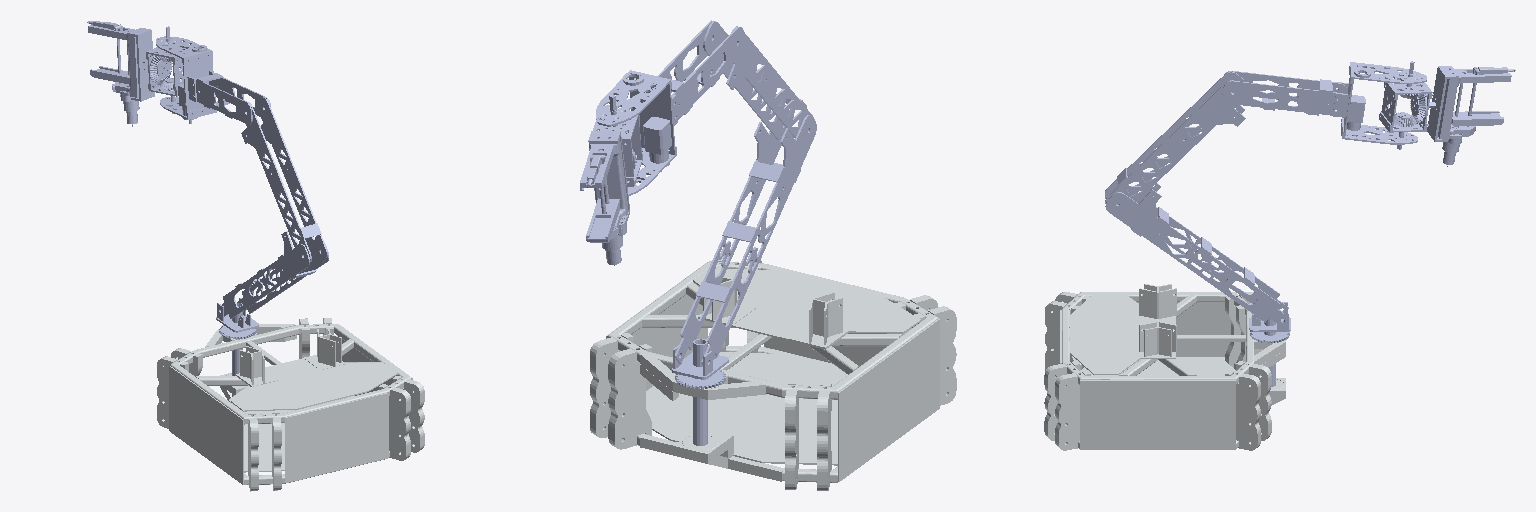
robot.urdf — N1:
<?xml version="1.0" encoding="utf-8"?>
<!-- This URDF was automatically created by SolidWorks to URDF Exporter! Originally created by Stephen Brawner (brawner@gmail.com) 
     Commit Version: 1.6.0-4-g7f85cfe  Build Version: 1.6.7995.38578
     For more information, please see http://wiki.ros.org/sw_urdf_exporter -->
<robot
  name="N1">
  <link
    name="base_link">
    <inertial>
      <origin
        xyz="0.44374130333229 0.00131744799682302 -0.0944335156494426"
        rpy="0 0 0" />
      <mass
        value="12.7671132805366" />
      <inertia
        ixx="0.0762177525654476"
        ixy="0.00525893980315938"
        ixz="0.00110830312185526"
        iyy="0.103599955301642"
        iyz="-0.000480576660787368"
        izz="0.0762422541174022" />
    </inertial>
    <visual>
      <origin
        xyz="0 0 0"
        rpy="0 0 0" />
      <geometry>
        <mesh
          filename="../meshes/base_link.STL" />
      </geometry>
      <material
        name="">
        <color
          rgba="0.898039215686275 0.917647058823529 0.929411764705882 1" />
      </material>
    </visual>
    <collision>
      <origin
        xyz="0 0 0"
        rpy="0 0 0" />
      <geometry>
        <mesh
          filename="../meshes/base_link.STL" />
      </geometry>
    </collision>
  </link>
  <link
    name="tt">
    <inertial>
      <origin
        xyz="0.0377719516274181 0.108170636515129 0.111025101523061"
        rpy="0 0 0" />
      <mass
        value="0.129929642618295" />
      <inertia
        ixx="0.000320270646686014"
        ixy="1.35269734113357E-08"
        ixz="-9.00264351077026E-08"
        iyy="0.00010911086169255"
        iyz="2.6086367259062E-06"
        izz="0.000302909782358854" />
    </inertial>
    <visual>
      <origin
        xyz="0 0 0"
        rpy="0 0 0" />
      <geometry>
        <mesh
          filename="../meshes/tt.STL" />
      </geometry>
      <material
        name="">
        <color
          rgba="0.792156862745098 0.819607843137255 0.933333333333333 1" />
      </material>
    </visual>
    <collision>
      <origin
        xyz="0 0 0"
        rpy="0 0 0" />
      <geometry>
        <mesh
          filename="../meshes/tt.STL" />
      </geometry>
    </collision>
  </link>
  <joint
    name="tt"
    type="revolute">
    <origin
      xyz="0.40275 0.46108 -0.020796"
      rpy="1.5708 0 0.020119" />
    <parent
      link="base_link" />
    <child
      link="tt" />
    <axis
      xyz="0 1 0" />
    <limit
      lower="-3.14"
      upper="3.14"
      effort="0"
      velocity="0" />
  </joint>
  <link
    name="link1">
    <inertial>
      <origin
        xyz="-0.310431970879497 -3.07589302529618 1.78575704902329"
        rpy="0 0 0" />
      <mass
        value="0.229444432647079" />
      <inertia
        ixx="0.000309638419618707"
        ixy="0.000834918622048221"
        ixz="-0.000527710947181506"
        iyy="0.00502028720553222"
        iyz="5.52520703820358E-05"
        izz="0.00504780093377593" />
    </inertial>
    <visual>
      <origin
        xyz="0 0 0"
        rpy="0 0 0" />
      <geometry>
        <mesh
          filename="../meshes/link1.STL" />
      </geometry>
      <material
        name="">
        <color
          rgba="0.792156862745098 0.819607843137255 0.933333333333333 1" />
      </material>
    </visual>
    <collision>
      <origin
        xyz="0 0 0"
        rpy="0 0 0" />
      <geometry>
        <mesh
          filename="../meshes/link1.STL" />
      </geometry>
    </collision>
  </link>
  <joint
    name="link1"
    type="revolute">
    <origin
      xyz="-3.4934 0.37744 0.82892"
      rpy="-2.9337 0.8328 -1.8744" />
    <parent
      link="tt" />
    <child
      link="link1" />
    <axis
      xyz="0 1 0" />
    <limit
      lower="-3.14"
      upper="3.14"
      effort="0"
      velocity="0" />
  </joint>
  <link
    name="link2">
    <inertial>
      <origin
        xyz="-0.625902574725166 -2.95029775475842 1.90384210647486"
        rpy="0 0 0" />
      <mass
        value="0.209369199831917" />
      <inertia
        ixx="0.00255840299551021"
        ixy="0.00083404571482698"
        ixz="0.00128678517080147"
        iyy="0.00286782241247256"
        iyz="-0.00114617443845331"
        izz="0.00176025218065915" />
    </inertial>
    <visual>
      <origin
        xyz="0 0 0"
        rpy="0 0 0" />
      <geometry>
        <mesh
          filename="../meshes/link2.STL" />
      </geometry>
      <material
        name="">
        <color
          rgba="0.792156862745098 0.819607843137255 0.933333333333333 1" />
      </material>
    </visual>
    <collision>
      <origin
        xyz="0 0 0"
        rpy="0 0 0" />
      <geometry>
        <mesh
          filename="../meshes/link2.STL" />
      </geometry>
    </collision>
  </link>
  <joint
    name="link2"
    type="revolute">
    <origin
      xyz="-0.1351 0.096831 0.14222"
      rpy="0.053413 0.57538 -0.25746" />
    <parent
      link="link1" />
    <child
      link="link2" />
    <axis
      xyz="0 1 0" />
    <limit
      lower="-3.14"
      upper="3.14"
      effort="0"
      velocity="0" />
  </joint>
  <link
    name="link3">
    <inertial>
      <origin
        xyz="-0.536116184747402 -2.83844876914217 2.19782740429963"
        rpy="0 0 0" />
      <mass
        value="0.434663057886458" />
      <inertia
        ixx="0.000748057712534503"
        ixy="-7.35791153548103E-05"
        ixz="-0.000520705967338347"
        iyy="0.00149073268456086"
        iyz="-9.67212234403561E-05"
        izz="0.00106567945218129" />
    </inertial>
    <visual>
      <origin
        xyz="0 0 0"
        rpy="0 0 0" />
      <geometry>
        <mesh
          filename="../meshes/link3.STL" />
      </geometry>
      <material
        name="">
        <color
          rgba="0.792156862745098 0.819607843137255 0.933333333333333 1" />
      </material>
    </visual>
    <collision>
      <origin
        xyz="0 0 0"
        rpy="0 0 0" />
      <geometry>
        <mesh
          filename="../meshes/link3.STL" />
      </geometry>
    </collision>
  </link>
  <joint
    name="link3"
    type="revolute">
    <origin
      xyz="-2.0297 -5.947 3.3406"
      rpy="1.0874 -1.1611 2.3867" />
    <parent
      link="link2" />
    <child
      link="link3" />
    <axis
      xyz="0 1 0" />
    <limit
      lower="-3.14"
      upper="3.14"
      effort="0"
      velocity="0" />
  </joint>
  <link
    name="ypr1">
    <inertial>
      <origin
        xyz="-0.400353939066197 -2.83039188226456 2.28710011887399"
        rpy="0 0 0" />
      <mass
        value="0.199246612726693" />
      <inertia
        ixx="0.000136695572471135"
        ixy="-7.37175161365253E-06"
        ixz="-1.34933584192559E-05"
        iyy="0.000143005219785575"
        iyz="9.02190571362869E-07"
        izz="0.000143440064072256" />
    </inertial>
    <visual>
      <origin
        xyz="0 0 0"
        rpy="0 0 0" />
      <geometry>
        <mesh
          filename="../meshes/ypr1.STL" />
      </geometry>
      <material
        name="">
        <color
          rgba="0.792156862745098 0.819607843137255 0.933333333333333 1" />
      </material>
    </visual>
    <collision>
      <origin
        xyz="0 0 0"
        rpy="0 0 0" />
      <geometry>
        <mesh
          filename="../meshes/ypr1.STL" />
      </geometry>
    </collision>
  </link>
  <joint
    name="ypr1"
    type="revolute">
    <origin
      xyz="1.493 0.024668 0.97129"
      rpy="0.29487 -0.11755 -0.42182" />
    <parent
      link="link3" />
    <child
      link="ypr1" />
    <axis
      xyz="0 1 0" />
    <limit
      lower="-3.14"
      upper="3.14"
      effort="0"
      velocity="0" />
  </joint>
  <link
    name="ypr2">
    <inertial>
      <origin
        xyz="-0.319557869710718 -2.80860506504414 2.35696307296752"
        rpy="0 0 0" />
      <mass
        value="0.589212645225962" />
      <inertia
        ixx="0.00062346864329558"
        ixy="0.00010487572244611"
        ixz="3.60567765534269E-05"
        iyy="0.00093389081970586"
        iyz="-0.000136412477240769"
        izz="0.000748445225172175" />
    </inertial>
    <visual>
      <origin
        xyz="0 0 0"
        rpy="0 0 0" />
      <geometry>
        <mesh
          filename="../meshes/ypr2.STL" />
      </geometry>
      <material
        name="">
        <color
          rgba="0.792156862745098 0.819607843137255 0.933333333333333 1" />
      </material>
    </visual>
    <collision>
      <origin
        xyz="0 0 0"
        rpy="0 0 0" />
      <geometry>
        <mesh
          filename="../meshes/ypr2.STL" />
      </geometry>
    </collision>
  </link>
  <joint
    name="ypr2"
    type="revolute">
    <origin
      xyz="-0.67118 -0.098537 -0.12077"
      rpy="-0.039163 0.051564 0.20064" />
    <parent
      link="ypr1" />
    <child
      link="ypr2" />
    <axis
      xyz="0 1 0" />
    <limit
      lower="-3.14"
      upper="3.14"
      effort="0"
      velocity="0" />
  </joint>
  <link
    name="end">
    <inertial>
      <origin
        xyz="-0.284857189285288 -2.78943016396074 2.41481239685602"
        rpy="0 0 0" />
      <mass
        value="0.0861437294327855" />
      <inertia
        ixx="6.40044583693865E-05"
        ixy="-7.54783037929151E-06"
        ixz="-4.4803496230468E-05"
        iyy="0.000122720936402219"
        iyz="-7.79537246037311E-06"
        izz="8.68981337149578E-05" />
    </inertial>
    <visual>
      <origin
        xyz="0 0 0"
        rpy="0 0 0" />
      <geometry>
        <mesh
          filename="../meshes/end.STL" />
      </geometry>
      <material
        name="">
        <color
          rgba="0.792156862745098 0.819607843137255 0.933333333333333 1" />
      </material>
    </visual>
    <collision>
      <origin
        xyz="0 0 0"
        rpy="0 0 0" />
      <geometry>
        <mesh
          filename="../meshes/end.STL" />
      </geometry>
    </collision>
  </link>
  <joint
    name="end"
    type="prismatic">
    <origin
      xyz="0 0 0"
      rpy="0 0 0" />
    <parent
      link="ypr2" />
    <child
      link="end" />
    <axis
      xyz="0 1 0" />
    <limit
      lower="-3.14"
      upper="3.14"
      effort="0"
      velocity="0" />
  </joint>
</robot>

--- Facts derived from the render (not from the file) ---
Views: 3 orthographic renders of the robot side by side, from view 1: azimuth 30°, elevation 25°; view 2: azimuth 150°, elevation 25°; view 3: azimuth 270°, elevation 25°.
Model N1 with 8 links and 7 joints (6 revolute, 1 prismatic), rooted at base_link, posed all joints at 0.
Visible links, largest first — view 1: base_link, link3, link2, ypr2, link1, tt, ypr1; view 2: base_link, link1, link3, link2, ypr2, tt, ypr1, end; view 3: base_link, link3, link1, link2, ypr2, ypr1, tt, end.
Link boxes in pixels (left/top/right/bottom): base_link: left=157, top=318, right=424, bottom=491; link3: left=156, top=36, right=270, bottom=124; link2: left=241, top=97, right=327, bottom=262; ypr2: left=87, top=21, right=172, bottom=126; link1: left=222, top=231, right=328, bottom=318; tt: left=216, top=298, right=258, bottom=375; ypr1: left=146, top=26, right=185, bottom=113; base_link: left=590, top=254, right=956, bottom=490; link1: left=675, top=115, right=816, bottom=364; link3: left=596, top=20, right=744, bottom=195; link2: left=703, top=21, right=814, bottom=140; ypr2: left=580, top=131, right=636, bottom=265; tt: left=672, top=339, right=728, bottom=445; ypr1: left=593, top=94, right=642, bottom=186; end: left=586, top=150, right=619, bottom=242; base_link: left=1044, top=284, right=1285, bottom=450; link3: left=1222, top=62, right=1426, bottom=144; link1: left=1105, top=183, right=1289, bottom=322; link2: left=1105, top=72, right=1245, bottom=205; ypr2: left=1410, top=66, right=1515, bottom=166; ypr1: left=1379, top=61, right=1433, bottom=149; tt: left=1249, top=302, right=1290, bottom=386; end: left=1451, top=73, right=1503, bottom=126.
Size in the robot's own frame: 0.5075 by 1.12 by 0.9051 metres.
8 mesh visuals loaded from 8 distinct referenced files (8 binary STL).
